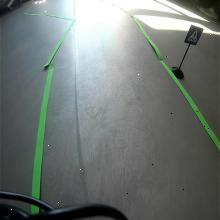crosswalk: (184, 25, 203, 46)
